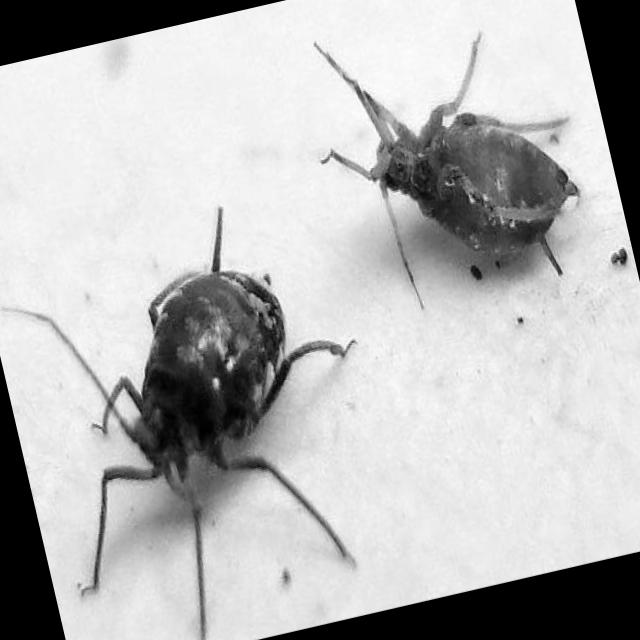Aphids: (34, 222, 370, 616), (312, 37, 586, 310)
